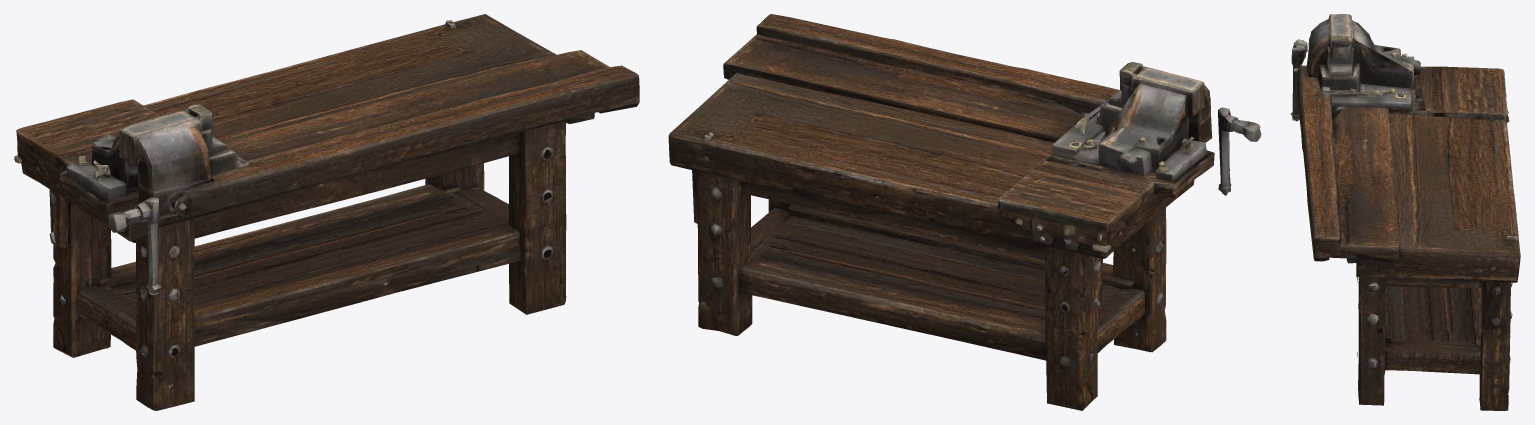
The picture shows the model from 3 angles, left to right: view 1: azimuth 30°, elevation 25°; view 2: azimuth 150°, elevation 25°; view 3: azimuth 270°, elevation 25°; orthographic projection. The views are drawn at different scales.
Visible parts, largest first — view 1: geometry_0; view 2: geometry_0; view 3: geometry_0.
Part boxes in pixels (box(x1,y1,x2,y2)): geometry_0: box(14, 14, 639, 410); geometry_0: box(668, 14, 1261, 410); geometry_0: box(1290, 14, 1520, 410).
Bounding box in the file's own units: 1 × 0.543 × 0.4859.
1 material, 1 textured.
